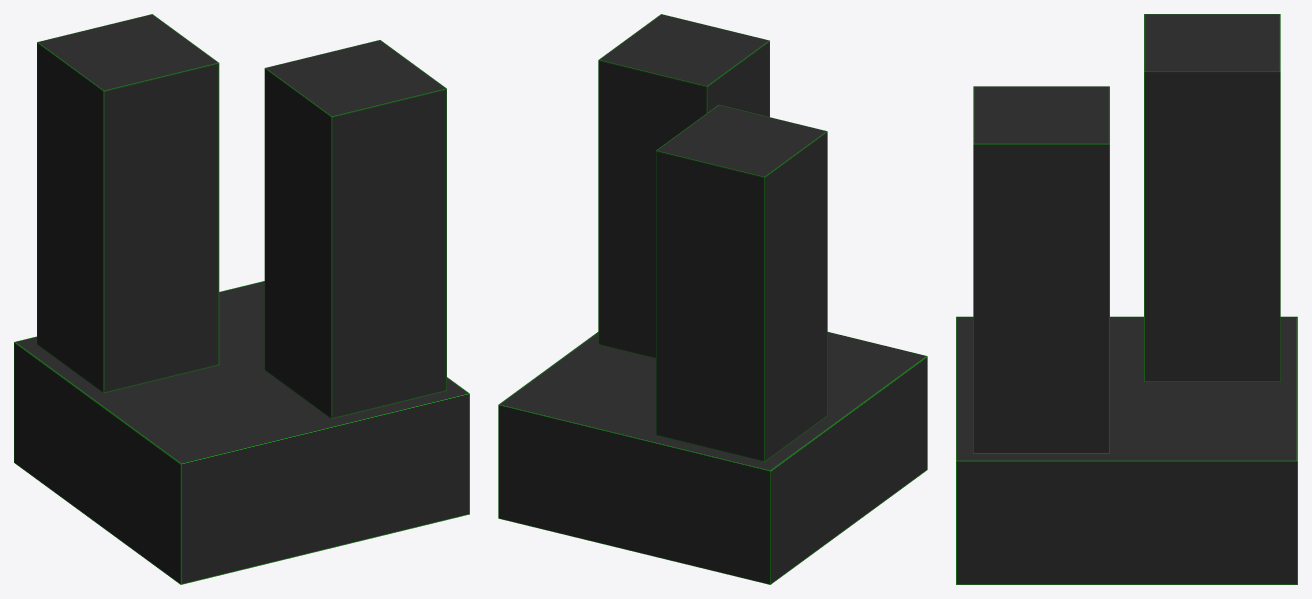
Rendered from Building1.obj.
The picture shows the model from 3 angles, left to right: view 1: azimuth 30°, elevation 25°; view 2: azimuth 150°, elevation 25°; view 3: azimuth 270°, elevation 25°; orthographic projection. The views are drawn at different scales.
Parts seen in each view (by area): view 1: Cube38_Cube39_copy40_auv, Cube38_Cube38_auv; view 2: Cube38_Cube39_copy40_auv, Cube38_Cube38_auv; view 3: Cube38_Cube39_copy40_auv, Cube38_Cube38_auv.
Part boxes in pixels (left/top/right/bottom): Cube38_Cube39_copy40_auv: left=37, top=14, right=446, bottom=418; Cube38_Cube38_auv: left=14, top=281, right=469, bottom=584; Cube38_Cube39_copy40_auv: left=598, top=14, right=827, bottom=461; Cube38_Cube38_auv: left=498, top=332, right=927, bottom=584; Cube38_Cube39_copy40_auv: left=973, top=14, right=1280, bottom=453; Cube38_Cube38_auv: left=956, top=316, right=1297, bottom=584.
Size of the model in its own units: 100 by 140 by 100.
Materials: 2 (2 with a texture image).
